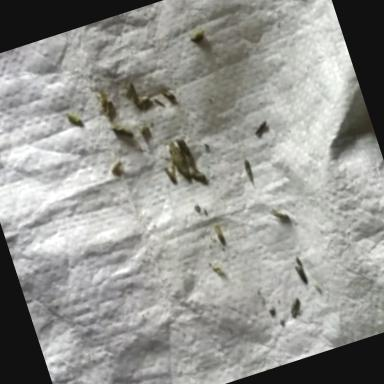pbw: (172, 134, 196, 172), (109, 119, 136, 147), (184, 158, 208, 189), (94, 96, 119, 124), (290, 254, 309, 286), (120, 78, 140, 106), (63, 108, 86, 132), (130, 92, 154, 114), (162, 162, 182, 188), (156, 82, 176, 106), (240, 156, 256, 184), (270, 204, 290, 226), (107, 157, 126, 180), (187, 26, 207, 46), (286, 296, 303, 318), (212, 222, 226, 247), (250, 120, 269, 136)
